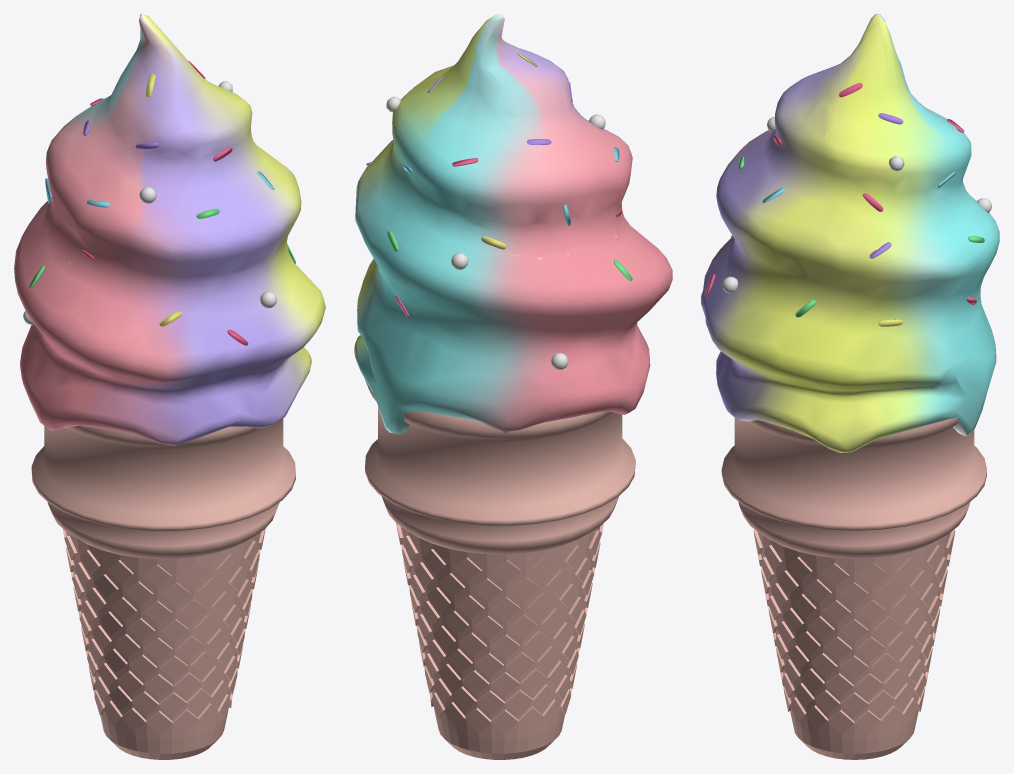
The model's file is neon_ice_cream.glb.
3 views of the same model, side by side, from view 1: azimuth 30°, elevation 25°; view 2: azimuth 150°, elevation 25°; view 3: azimuth 270°, elevation 25° (orthographic). The views are drawn at different scales.
Visible parts, largest first — view 1: Ice Cream, Cone, Circle, Sphere; view 2: Ice Cream, Cone, Circle, Sphere; view 3: Ice Cream, Cone, Circle, Sphere.
Boxes of the visible parts, x1,y1,x2,y2 form: Ice Cream: (14, 14, 325, 445); Cone: (31, 418, 295, 759); Circle: (29, 61, 295, 345); Sphere: (23, 81, 276, 324); Ice Cream: (354, 14, 672, 434); Cone: (365, 379, 635, 759); Circle: (366, 52, 632, 317); Sphere: (386, 96, 605, 369); Ice Cream: (701, 14, 999, 452); Cone: (721, 417, 986, 759); Circle: (705, 83, 984, 326); Sphere: (722, 116, 991, 293).
Bounding box in the file's own units: 6.29 × 16.02 × 6.03.
Materials: 8 (1 with a texture image).
